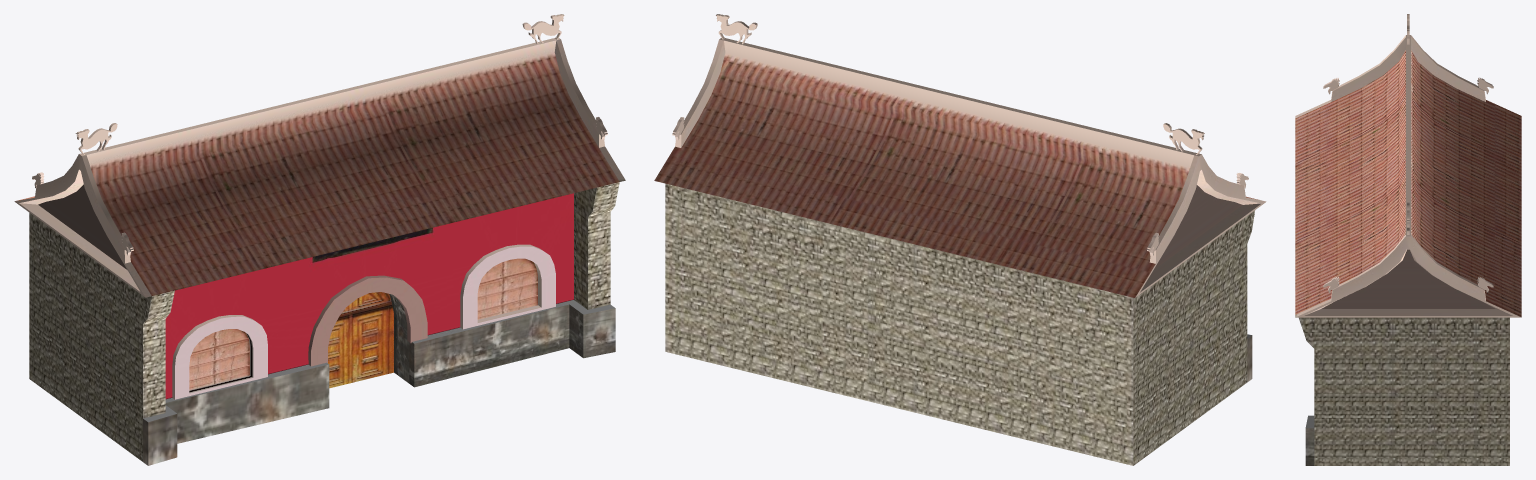
The model's file is Temple2.obj.
3 renders of one model, left to right at view 1: azimuth 30°, elevation 25°; view 2: azimuth 150°, elevation 25°; view 3: azimuth 270°, elevation 25°, orthographic. The views are drawn at different scales.
Visible parts, largest first — view 1: 10062_china_buddhist_temple_2009_网格; view 2: 10062_china_buddhist_temple_2009_网格; view 3: 10062_china_buddhist_temple_2009_网格.
Part boxes in pixels (x1,y1,x2,y2): 10062_china_buddhist_temple_2009_网格: [14, 14, 625, 465]; 10062_china_buddhist_temple_2009_网格: [654, 14, 1266, 465]; 10062_china_buddhist_temple_2009_网格: [1295, 14, 1521, 465].
Size of the model in its own units: 9.47 by 5.44 by 4.43.
Materials: 1 (1 with a texture image).
